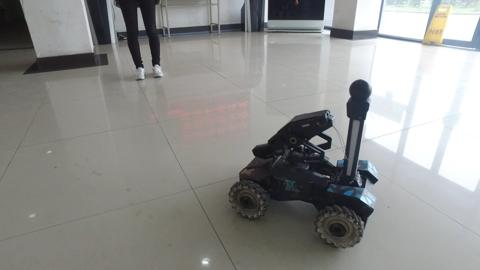chariot: (227, 77, 379, 250)
